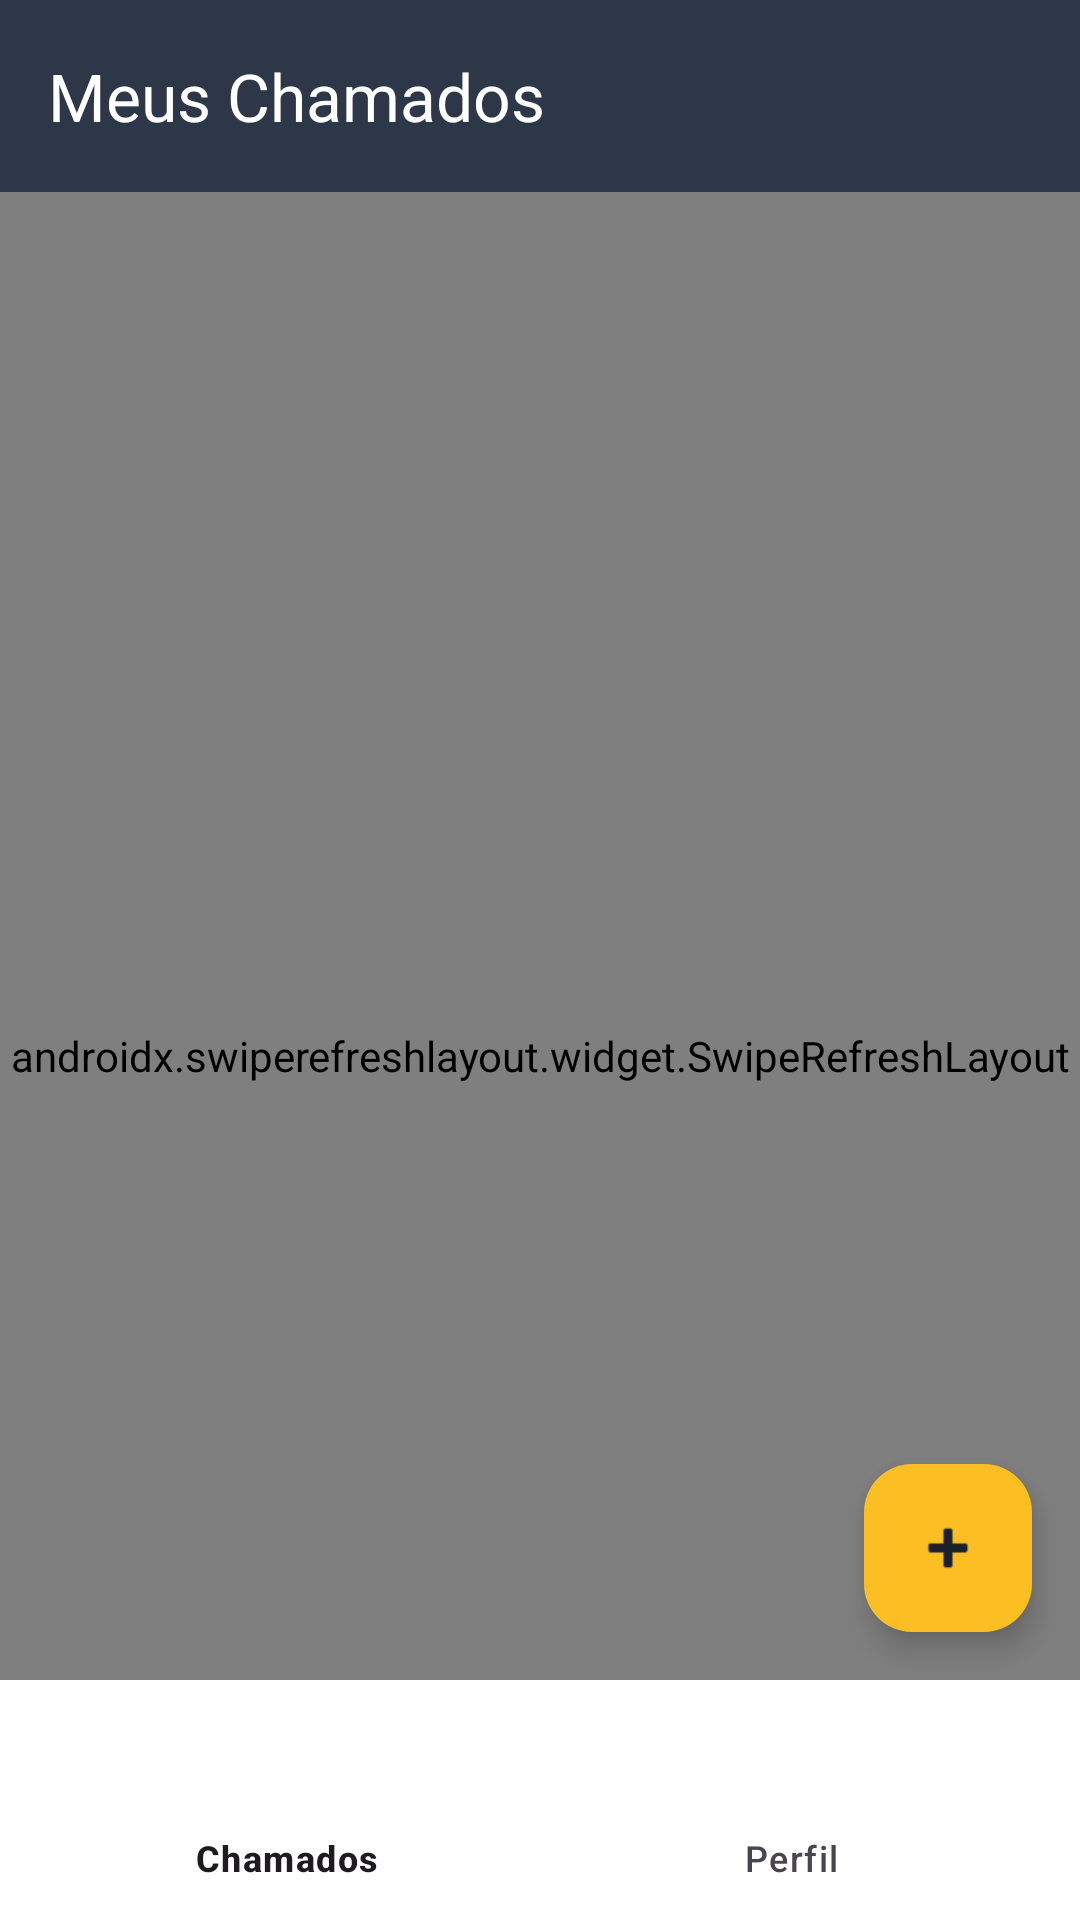

Where to tap for icons on this 1080w x 1920h app screen, as point (x, y):
Novo Chamado: point (948, 1548)
